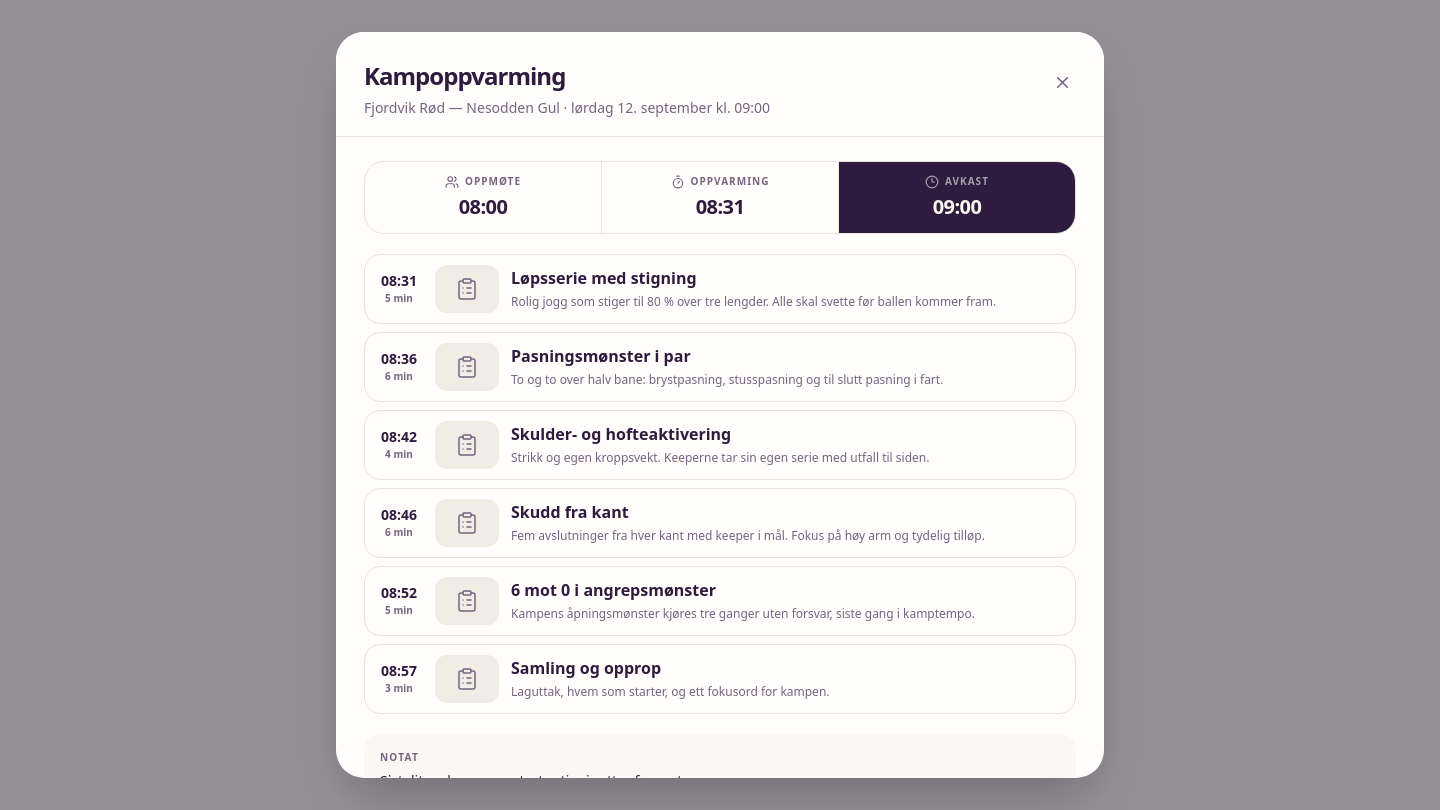
Test: WarmupDialog › opens the activity in the same detail popup the exercise bank uses
The image size is (1440, 810).
Click the text "Skudd fra kant" at (570, 512), box [511,501,629,523]
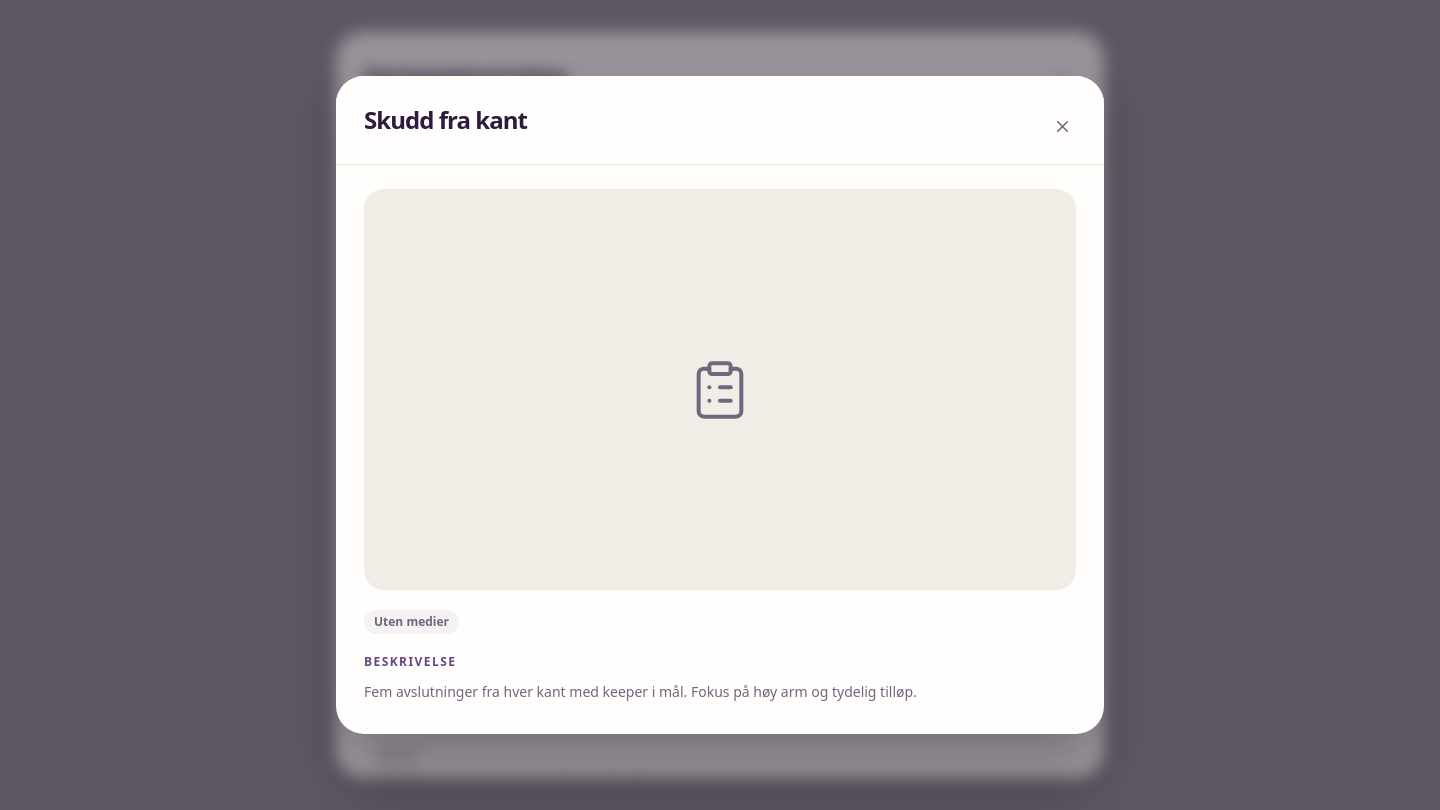
expect the heading "Skudd fra kant" is shown: met, box [364,104,527,136]
expect the text "Fem avslutninger fra hver kant" is shown: met, box [364,682,917,701]
